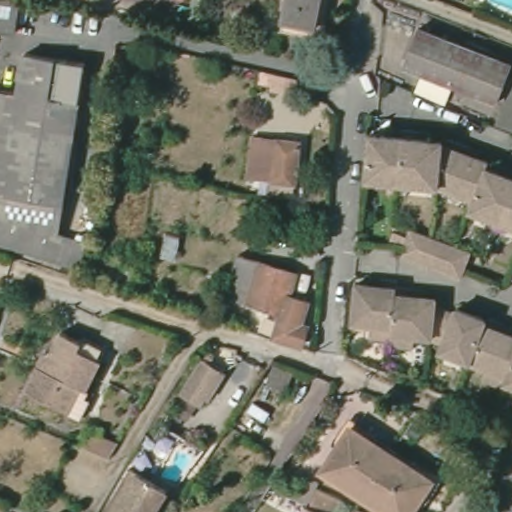pool: (158, 444, 199, 484)
